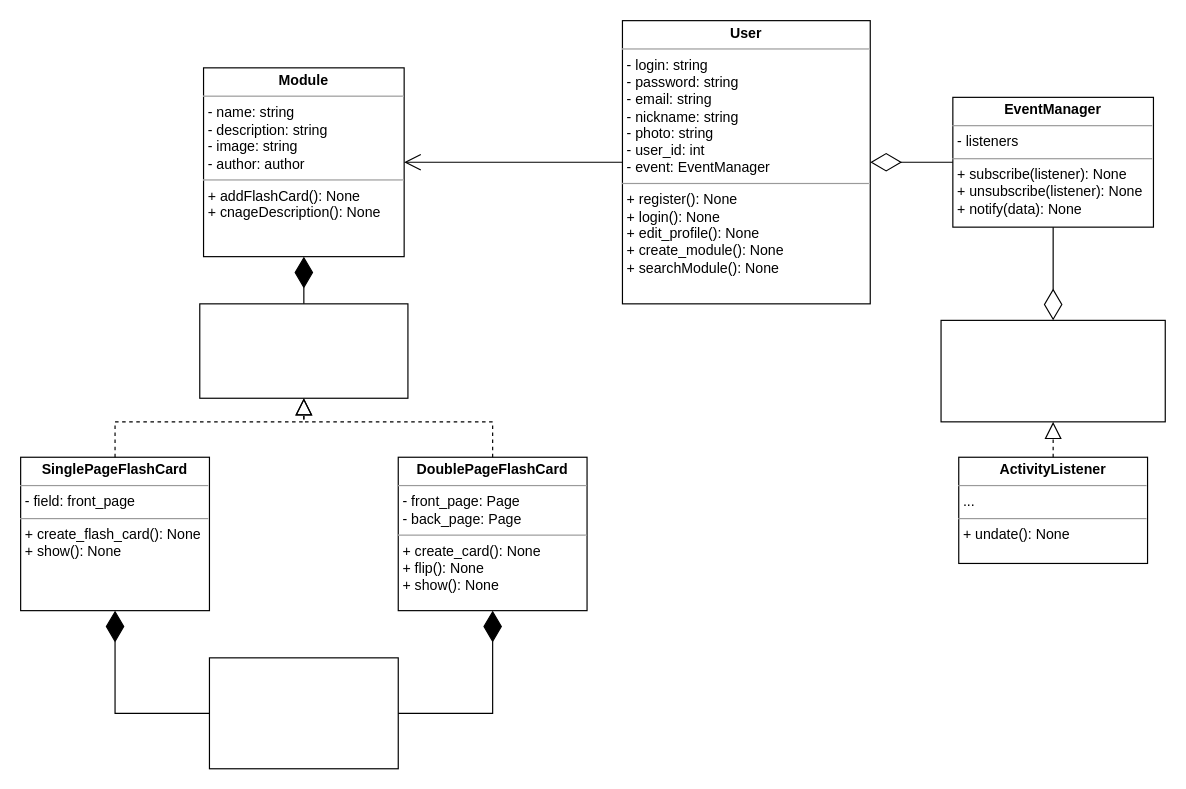
The diagram is 1186 pixels wide and 789 high, and some of its shapes have lost their labels. Here are the shapes that lost their labels. From the top down, the centre of each, then its label:
At point 303,350: "<<Interface>> IFlashCard + create_card(): None + show(): None".
At point 1052,370: "<<Interface>> IEventListeners + update(): None".
At point 303,713: "Page - field: text - field: image".
